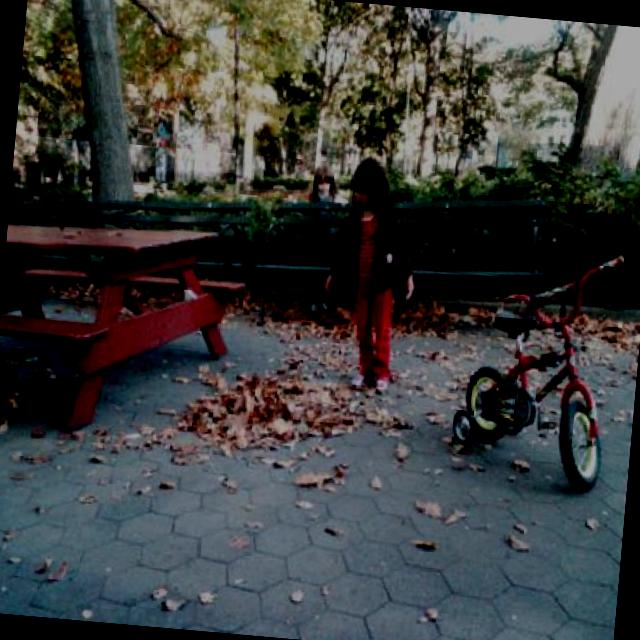Person: (314, 154, 425, 396), (298, 162, 351, 316)
